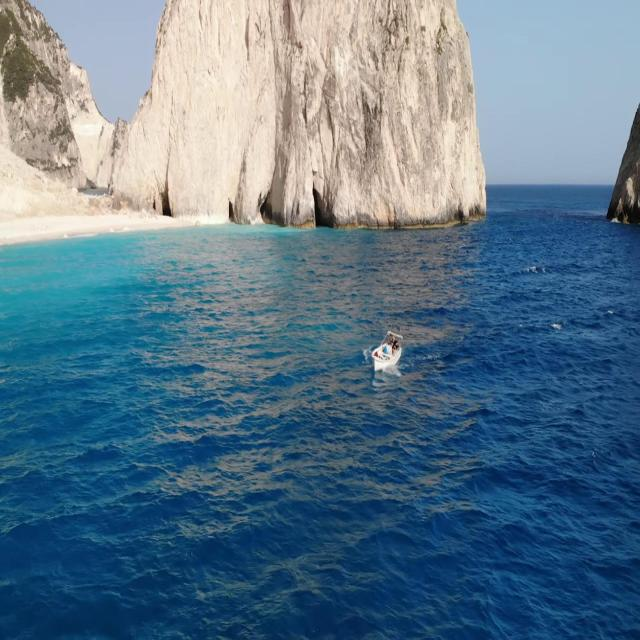boat: (376, 324, 404, 368)
